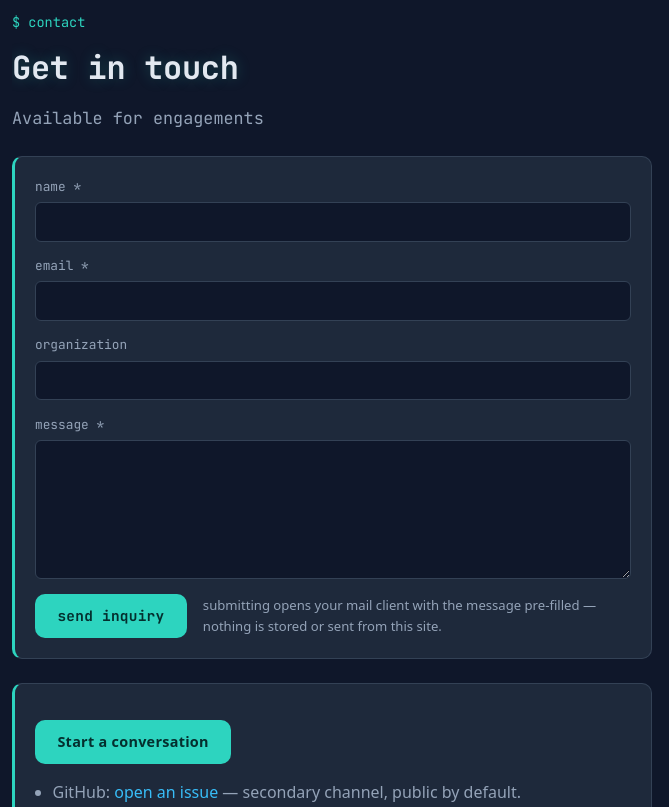
Contact inquiry form › clears a field's error once the field is edited
Click the button "send inquiry": (111, 616) [35,594,187,638]
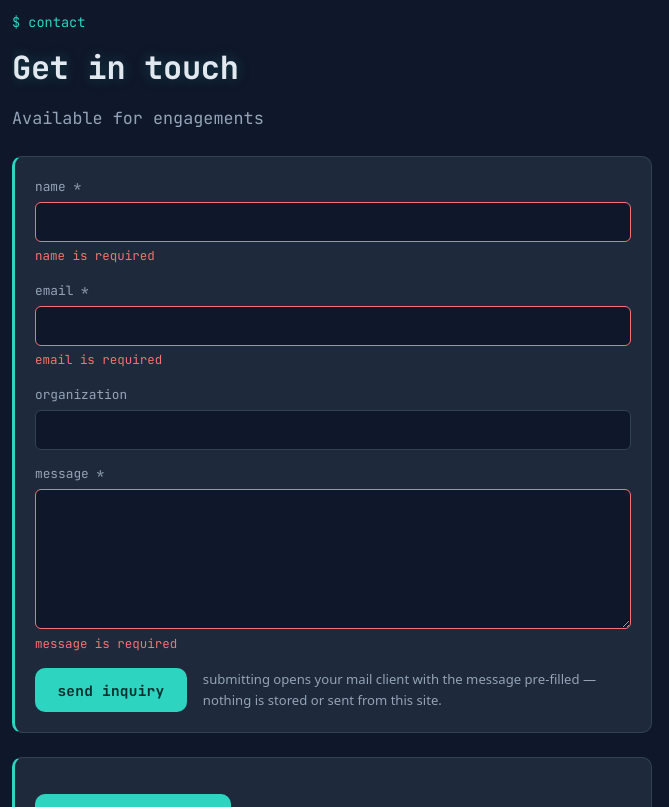
Expected: the text "name is required" is shown, [35,248,155,264]
In the field labelled "name *": (333, 222) [35,202,631,242], type "Ada Lovelace"
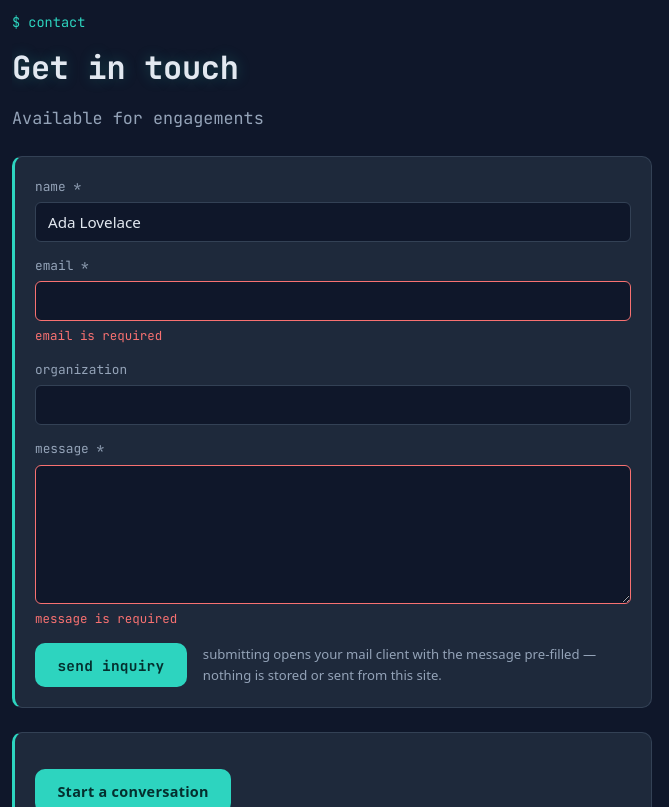
Expected: the text "name is required" is gone
